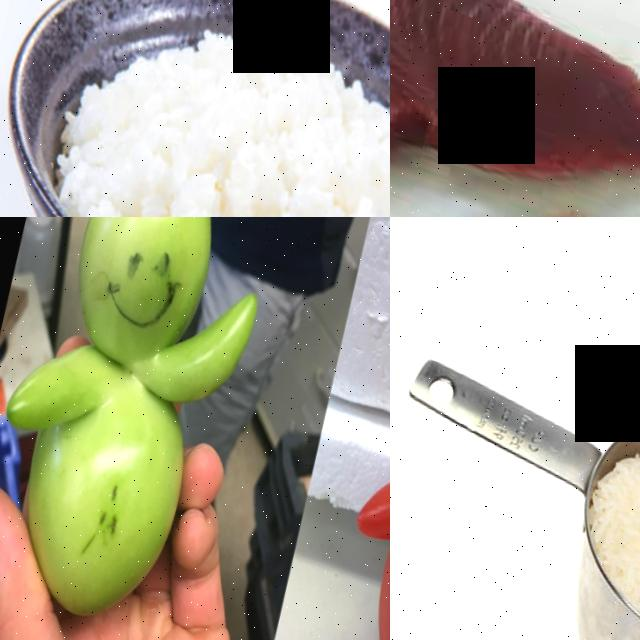tuna: (390, 0, 640, 217), (390, 152, 640, 217)
white rice: (91, 21, 390, 217), (574, 400, 640, 640)
